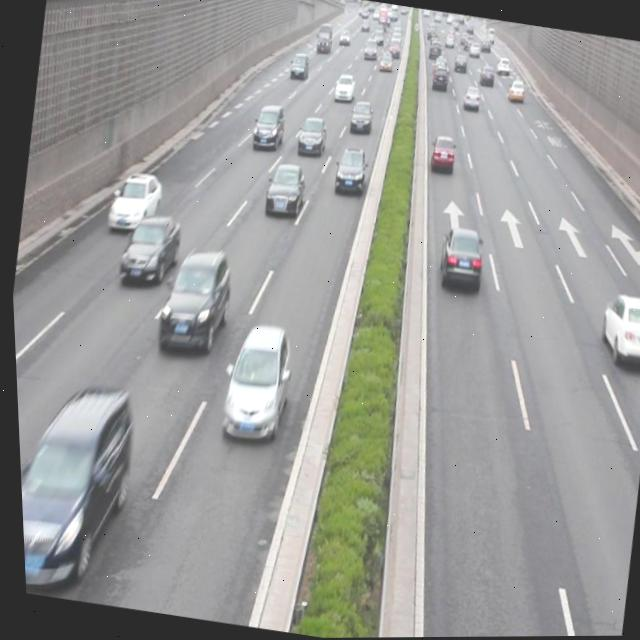car: (13, 371, 140, 593), (213, 318, 297, 443), (151, 240, 235, 352), (113, 206, 182, 293), (104, 168, 165, 236), (431, 222, 486, 296), (591, 291, 640, 368), (261, 161, 308, 223), (329, 144, 370, 199), (248, 101, 286, 153), (294, 113, 329, 157), (425, 133, 457, 176), (345, 97, 374, 137), (331, 73, 355, 104)
